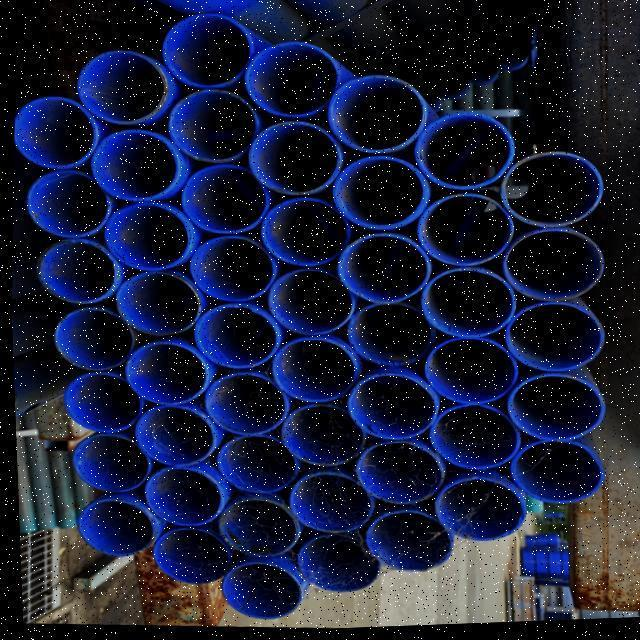pipe: (504, 227, 606, 310), (500, 152, 604, 233), (415, 114, 517, 194), (327, 77, 427, 158), (246, 36, 341, 120), (501, 306, 602, 381), (509, 436, 603, 515), (247, 123, 340, 200), (503, 377, 605, 447), (418, 269, 517, 340), (162, 16, 255, 91), (181, 165, 268, 245), (419, 338, 516, 409), (336, 157, 427, 232), (418, 196, 515, 266), (344, 372, 435, 446), (339, 234, 433, 305), (171, 93, 261, 166), (91, 132, 181, 204), (78, 50, 165, 123), (275, 400, 368, 468), (429, 480, 523, 547), (14, 96, 100, 168), (262, 199, 349, 270), (192, 304, 278, 375), (262, 274, 350, 342), (274, 337, 357, 408), (348, 304, 437, 370), (186, 238, 275, 304), (354, 445, 444, 510), (430, 408, 518, 474), (105, 204, 189, 272), (361, 511, 451, 574), (29, 169, 109, 239), (122, 341, 209, 405), (113, 272, 198, 337), (33, 239, 114, 307), (131, 407, 216, 471), (53, 306, 132, 373), (213, 498, 297, 560), (289, 475, 374, 536), (205, 372, 287, 435), (141, 466, 223, 527), (61, 373, 143, 434), (66, 430, 146, 492), (214, 563, 301, 620), (293, 537, 377, 596), (212, 437, 294, 497), (146, 528, 228, 585), (73, 498, 151, 557)
